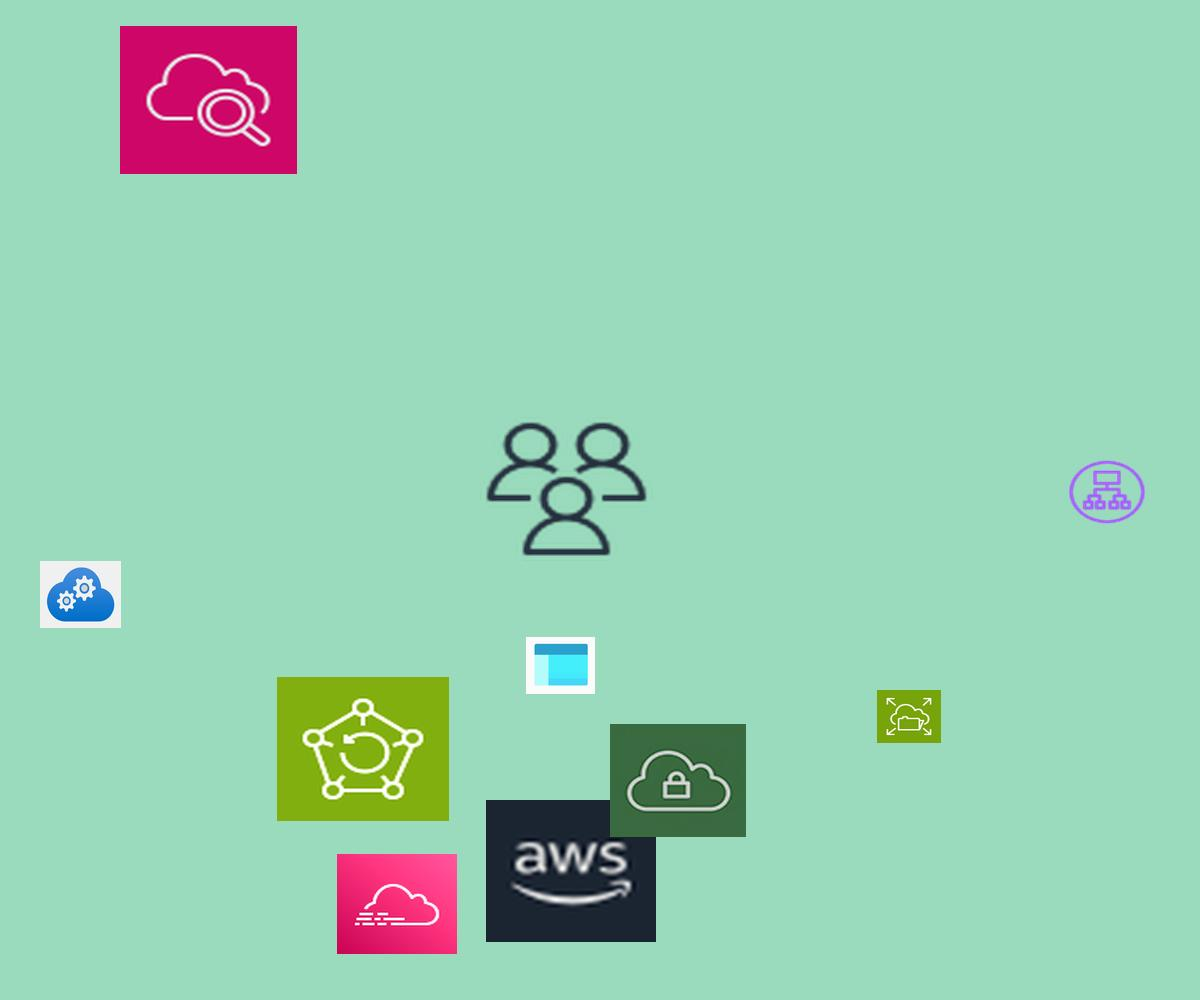AWS-Backup: (277, 677, 449, 821)
AWS-Cloud-logo: (486, 800, 656, 942)
AWS-CloudTrail: (337, 854, 457, 954)
AWS-CloudWatch: (120, 26, 297, 174)
AWS-EFS: (877, 690, 941, 743)
AWS-Private_vpc: (610, 724, 746, 837)
AWS-Res_Elastic-Load-Balancing_Application-Load-Balancer: (1066, 458, 1148, 526)
AWS-Res_Users: (480, 417, 653, 561)
Azure_cloud_services: (40, 561, 121, 628)
Azure_management-portal: (526, 637, 595, 694)
